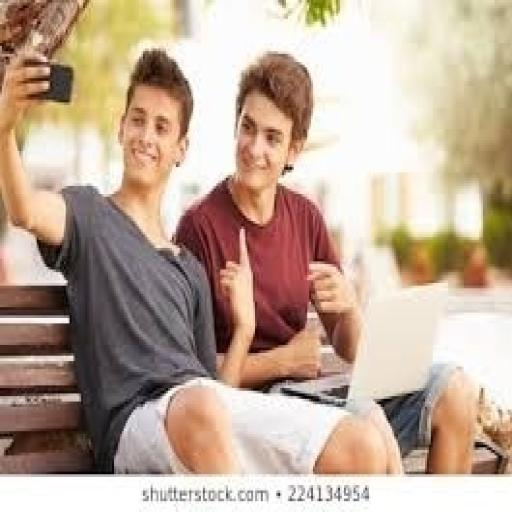sitting: (0, 43, 404, 474), (172, 48, 481, 474)
